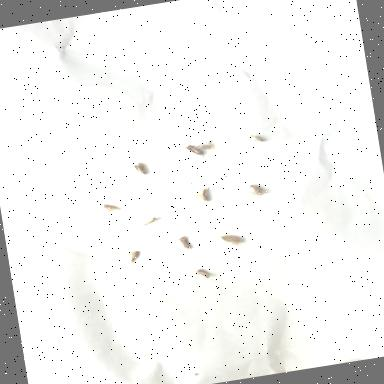pbw: (210, 228, 244, 248), (185, 142, 205, 162), (119, 249, 140, 266), (192, 186, 212, 203), (101, 201, 122, 214), (249, 183, 264, 196), (196, 267, 210, 280), (133, 162, 146, 176), (180, 235, 192, 250), (143, 214, 158, 225), (250, 133, 264, 143)
